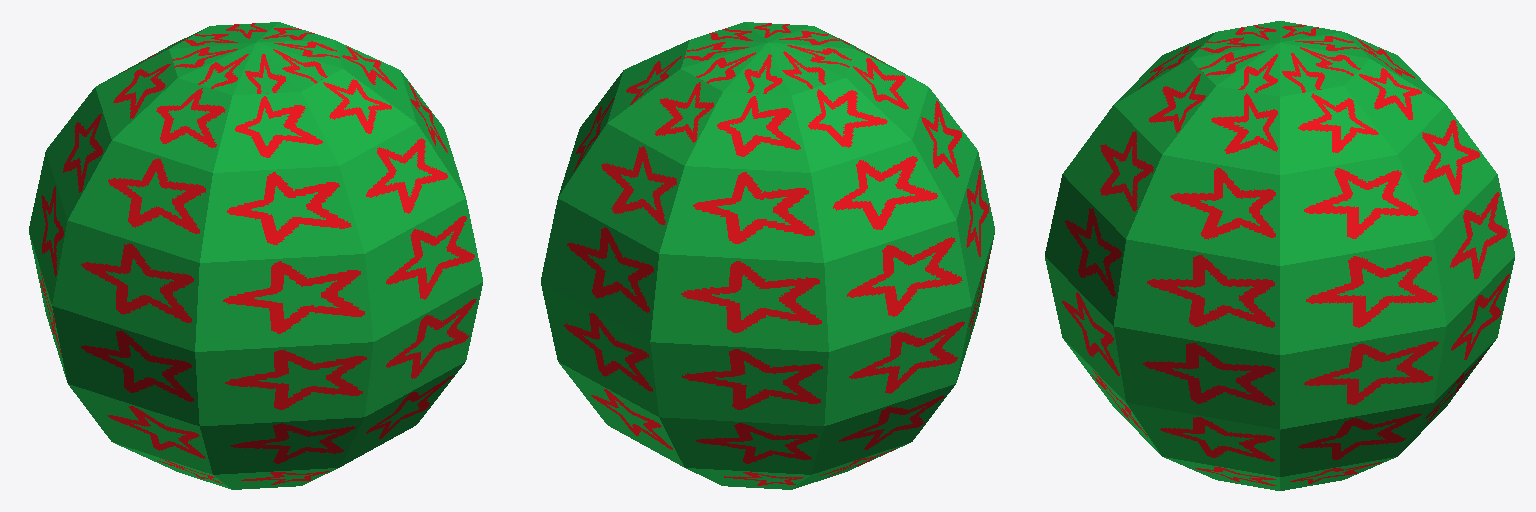
3 renders of one model, left to right at view 1: azimuth 30°, elevation 25°; view 2: azimuth 150°, elevation 25°; view 3: azimuth 270°, elevation 25°, orthographic.
Parts seen in each view (by area): view 1: Sphere; view 2: Sphere; view 3: Sphere.
Part boxes in pixels (left/top/right/bottom): Sphere: left=29, top=22, right=482, bottom=489; Sphere: left=541, top=22, right=994, bottom=489; Sphere: left=1045, top=21, right=1514, bottom=490.
Bounding box in the file's own units: 2 × 2 × 2.
1 materials, 1 textured.